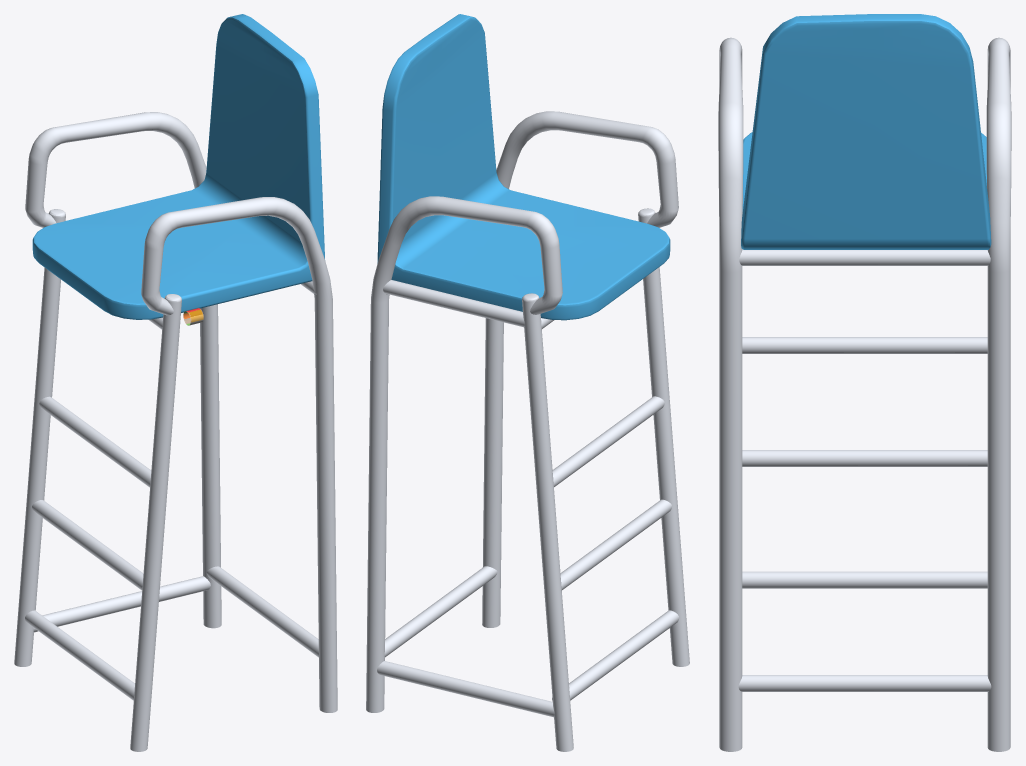
Rendered from Jiuchair.fbx.
The picture shows the model from 3 angles, left to right: view 1: azimuth 30°, elevation 25°; view 2: azimuth 150°, elevation 25°; view 3: azimuth 270°, elevation 25°; orthographic projection. The views are drawn at different scales.
Visible parts, largest first — view 1: pCylinder26; view 2: pCylinder26; view 3: pCylinder26.
Boxes of the visible parts, bbox=[...] form: pCylinder26: bbox=[14, 14, 337, 751]; pCylinder26: bbox=[366, 14, 689, 751]; pCylinder26: bbox=[718, 14, 1011, 751].
Size of the model in its own units: 74.19 by 216 by 78.75.
